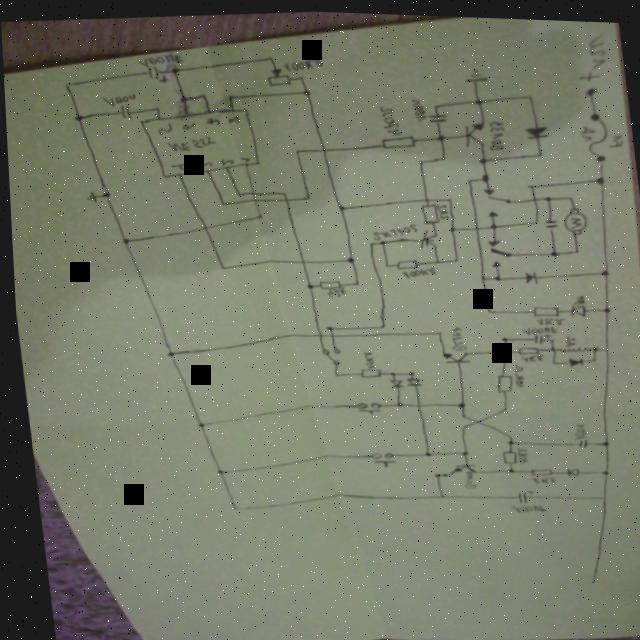capacitor: (143, 64, 167, 83), (511, 485, 530, 501), (426, 109, 447, 123), (117, 103, 132, 120), (528, 329, 548, 341), (541, 214, 556, 227), (573, 435, 584, 445)
crossover: (468, 415, 477, 422), (297, 255, 304, 264), (470, 222, 478, 228), (248, 188, 254, 195), (281, 195, 288, 201), (313, 330, 320, 336), (199, 224, 207, 229), (421, 194, 427, 200), (319, 145, 325, 151), (326, 330, 332, 336), (410, 400, 417, 405), (249, 196, 255, 201), (529, 194, 535, 198)
diode: (521, 121, 548, 138), (565, 291, 584, 314), (520, 266, 535, 282), (562, 352, 581, 363), (401, 373, 418, 385), (560, 463, 576, 474), (384, 375, 400, 386)
ground: (461, 63, 488, 82), (82, 191, 96, 203)
inductor: (554, 341, 588, 350)
junction: (592, 171, 604, 182), (478, 169, 488, 180), (433, 130, 444, 140), (71, 113, 83, 122), (161, 349, 172, 358), (177, 94, 187, 102), (119, 237, 129, 245), (98, 191, 109, 198), (486, 219, 495, 227), (476, 154, 485, 162), (546, 246, 556, 253), (472, 95, 482, 102), (169, 66, 179, 73), (210, 467, 220, 474), (596, 435, 604, 443), (226, 92, 234, 100), (215, 262, 223, 270), (303, 280, 311, 288), (334, 202, 343, 209), (498, 345, 507, 352), (452, 399, 461, 406), (596, 465, 605, 472), (225, 503, 234, 510), (599, 302, 607, 309), (598, 265, 606, 272), (541, 192, 549, 199), (343, 254, 351, 261), (490, 271, 498, 278), (419, 448, 427, 455), (292, 146, 300, 153), (301, 87, 309, 94), (192, 420, 200, 427), (481, 305, 489, 311), (496, 333, 504, 339), (217, 199, 225, 205), (322, 323, 330, 329), (545, 342, 552, 348), (546, 356, 553, 362), (525, 180, 532, 186), (446, 223, 453, 229), (432, 100, 438, 107), (525, 90, 532, 96), (456, 447, 463, 453), (199, 91, 206, 97), (63, 82, 70, 88), (385, 368, 392, 374), (391, 399, 398, 405), (588, 342, 594, 348), (477, 272, 483, 278), (535, 148, 541, 154), (595, 490, 601, 496), (279, 189, 285, 195), (255, 212, 261, 218), (350, 279, 357, 284), (376, 238, 383, 243), (376, 321, 383, 326), (545, 334, 551, 339), (381, 260, 387, 265), (366, 239, 372, 244), (450, 254, 456, 259), (465, 175, 471, 180), (429, 470, 435, 475), (502, 464, 508, 469), (502, 431, 508, 436), (498, 402, 504, 407), (153, 105, 159, 110), (297, 73, 303, 78), (444, 195, 451, 199), (432, 328, 439, 332), (502, 437, 509, 441), (233, 191, 240, 195), (571, 245, 577, 249), (530, 217, 536, 221), (431, 256, 437, 260), (565, 192, 571, 196), (439, 153, 445, 157), (416, 157, 422, 161), (434, 492, 440, 496), (455, 423, 461, 427), (303, 194, 309, 198), (404, 369, 410, 373), (329, 371, 335, 375), (587, 354, 592, 358), (600, 343, 605, 347), (456, 410, 461, 414)
resistor: (262, 53, 292, 86), (378, 132, 416, 147), (527, 300, 557, 315), (418, 200, 438, 222), (491, 370, 510, 390), (392, 255, 416, 268), (354, 364, 377, 377), (314, 277, 339, 288), (513, 341, 536, 352), (524, 463, 548, 473), (496, 446, 512, 461)
switch: (479, 182, 511, 215), (483, 235, 510, 266), (316, 344, 340, 366), (365, 448, 392, 466), (352, 397, 377, 414)
terminal: (582, 82, 598, 95), (584, 574, 590, 580)
text: (574, 29, 609, 79), (368, 219, 416, 240), (164, 134, 215, 153), (280, 52, 324, 72), (136, 50, 184, 67), (377, 102, 401, 134), (484, 117, 505, 149), (99, 92, 137, 107), (504, 498, 543, 512), (397, 263, 434, 277), (408, 94, 427, 120), (445, 323, 464, 349), (517, 321, 554, 332), (531, 312, 563, 324), (508, 360, 522, 385), (576, 121, 595, 138), (605, 129, 623, 146), (457, 467, 472, 487), (322, 284, 344, 297), (568, 418, 582, 436), (510, 443, 524, 461), (526, 472, 551, 482), (358, 348, 371, 367), (516, 350, 540, 360), (155, 121, 172, 135), (434, 200, 447, 217), (179, 120, 195, 131), (193, 159, 212, 168), (559, 331, 573, 343), (168, 161, 185, 170), (218, 155, 233, 165), (203, 116, 219, 125), (224, 114, 239, 122), (238, 155, 248, 162)
transistor: (460, 118, 485, 144), (437, 346, 467, 363), (414, 225, 436, 247), (442, 458, 472, 474)
